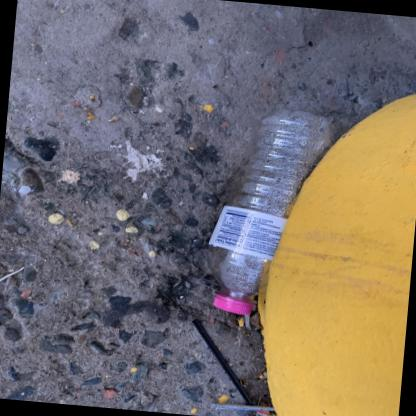Plastic: (207, 109, 330, 315), (192, 319, 255, 405), (213, 297, 253, 315), (210, 403, 275, 411)
